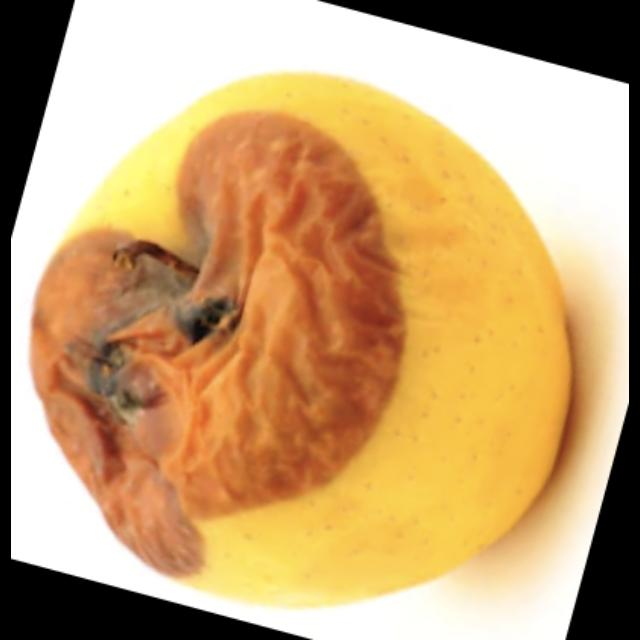Apel Segar: (263, 83, 591, 612)
Apel Tidak Segar: (17, 72, 431, 604)
